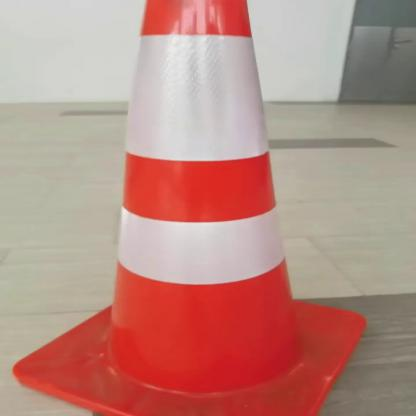cone: (6, 1, 384, 416)
